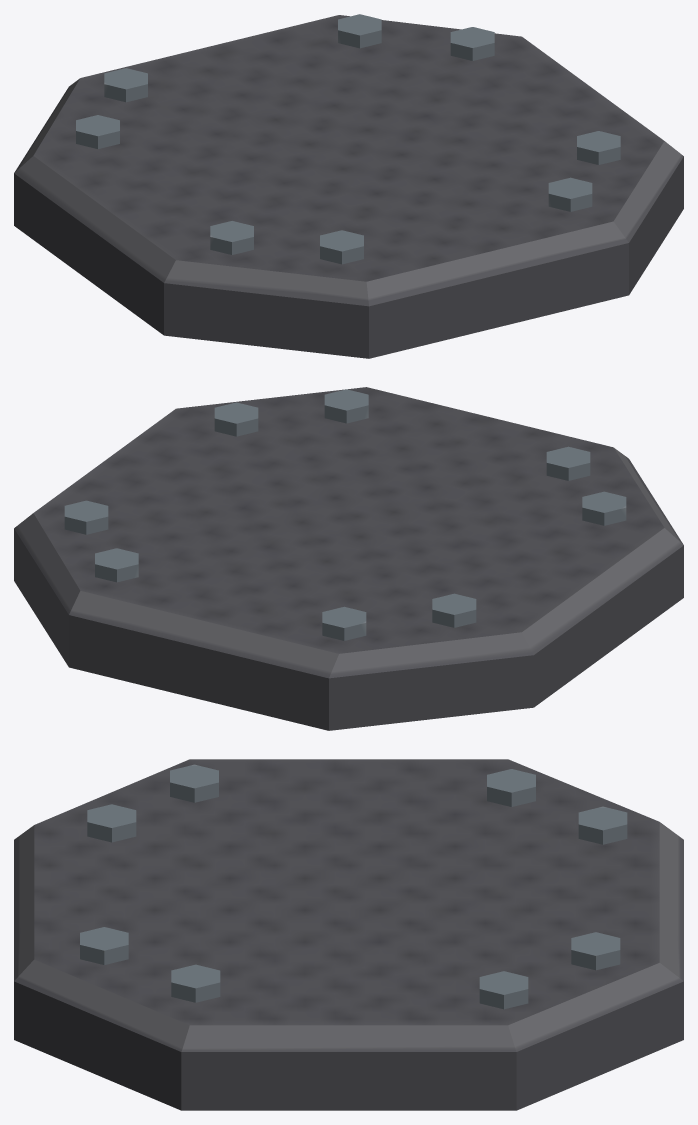
Rendered from SM_Prop_Pipe_Junction_Attatchment_02.fbx.
The picture shows the model from 3 angles, top to bottom: view 1: azimuth 30°, elevation 25°; view 2: azimuth 150°, elevation 25°; view 3: azimuth 270°, elevation 25°; orthographic projection. The views are drawn at different scales.
Visible parts, largest first — view 1: SM_Prop_Pipe_Junction_Attatchment_02; view 2: SM_Prop_Pipe_Junction_Attatchment_02; view 3: SM_Prop_Pipe_Junction_Attatchment_02.
Boxes of the visible parts, <box> form: SM_Prop_Pipe_Junction_Attatchment_02: <box>14,14,683,358</box>; SM_Prop_Pipe_Junction_Attatchment_02: <box>14,387,683,730</box>; SM_Prop_Pipe_Junction_Attatchment_02: <box>14,759,683,1110</box>.
Size of the model in its own units: 114 by 17.1 by 114.
